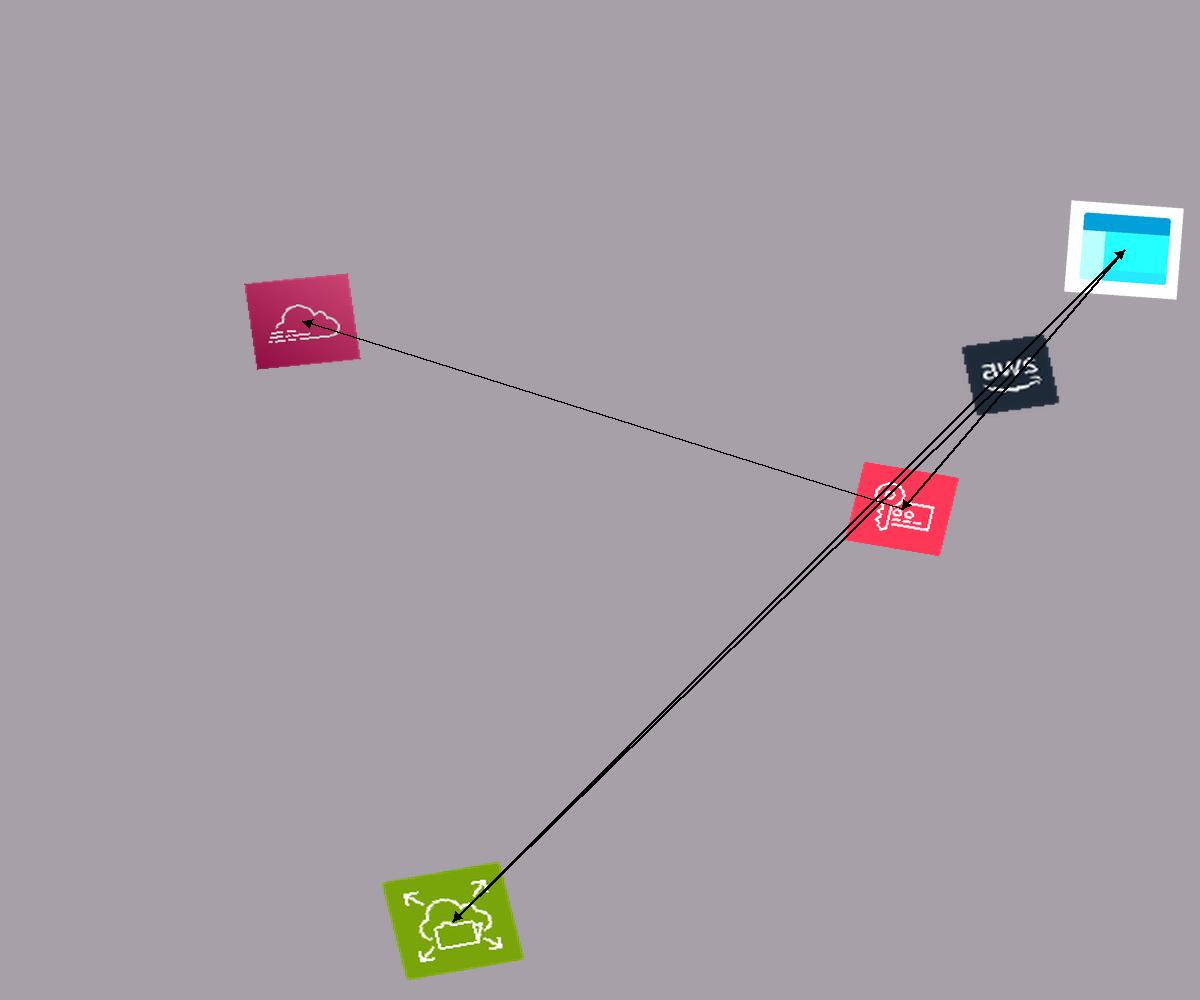AWS-Cloud-logo: (960, 333, 1061, 417)
AWS-CloudTrail: (244, 273, 361, 370)
AWS-EFS: (381, 861, 525, 981)
AWS-Key-Management-Service: (844, 461, 960, 557)
Azure_management-portal: (1064, 200, 1184, 300)
